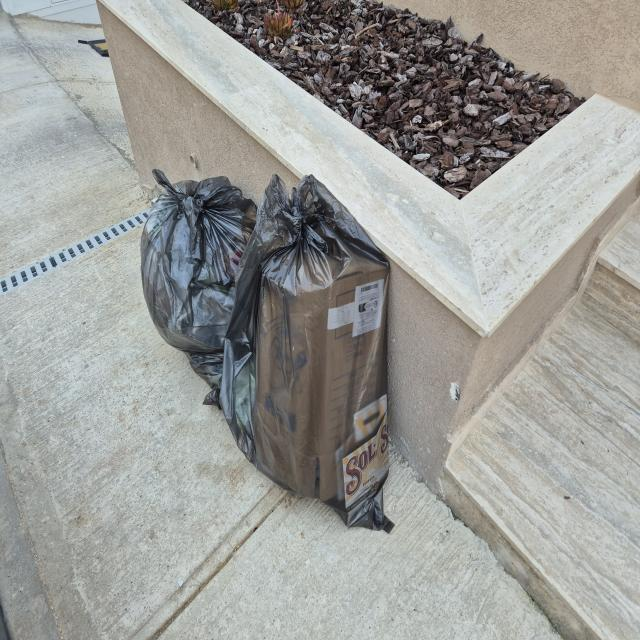black_bag: (222, 171, 392, 532), (134, 138, 255, 346)
